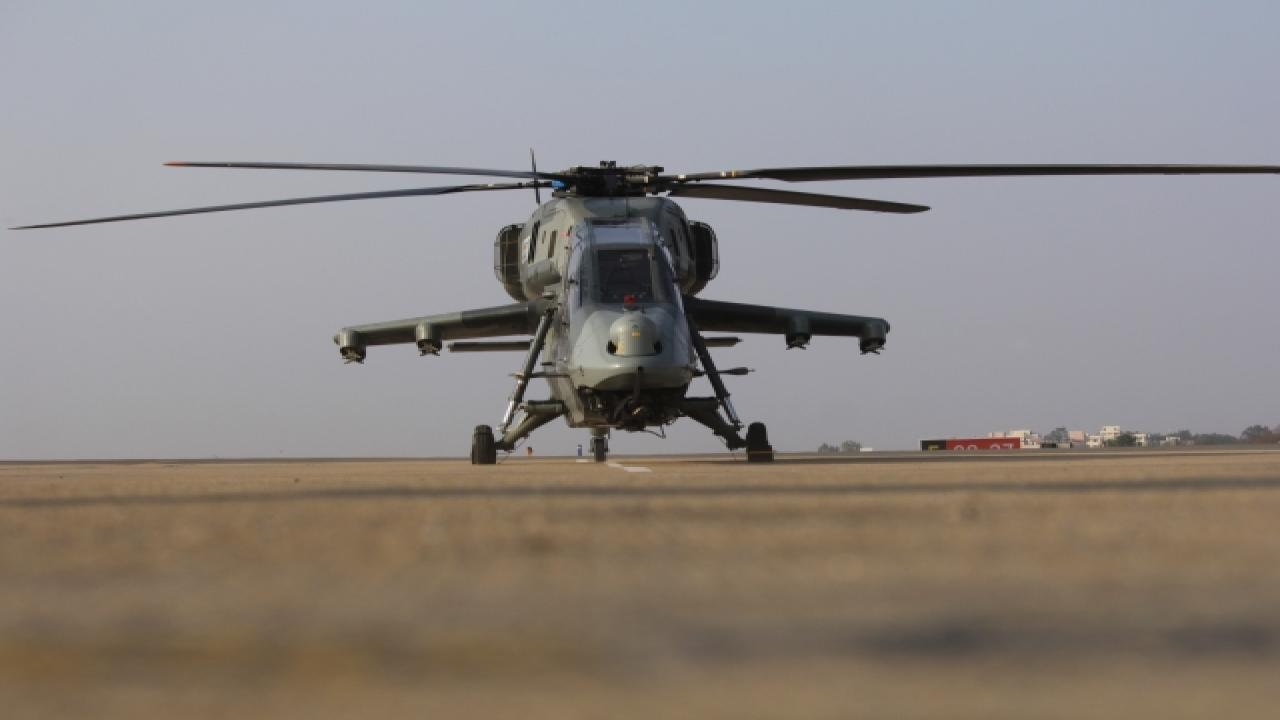Helicopter: (11, 143, 1280, 471)
